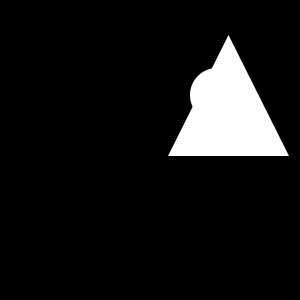rectangle: (190, 68, 244, 122)
triangle: (168, 35, 289, 156)
